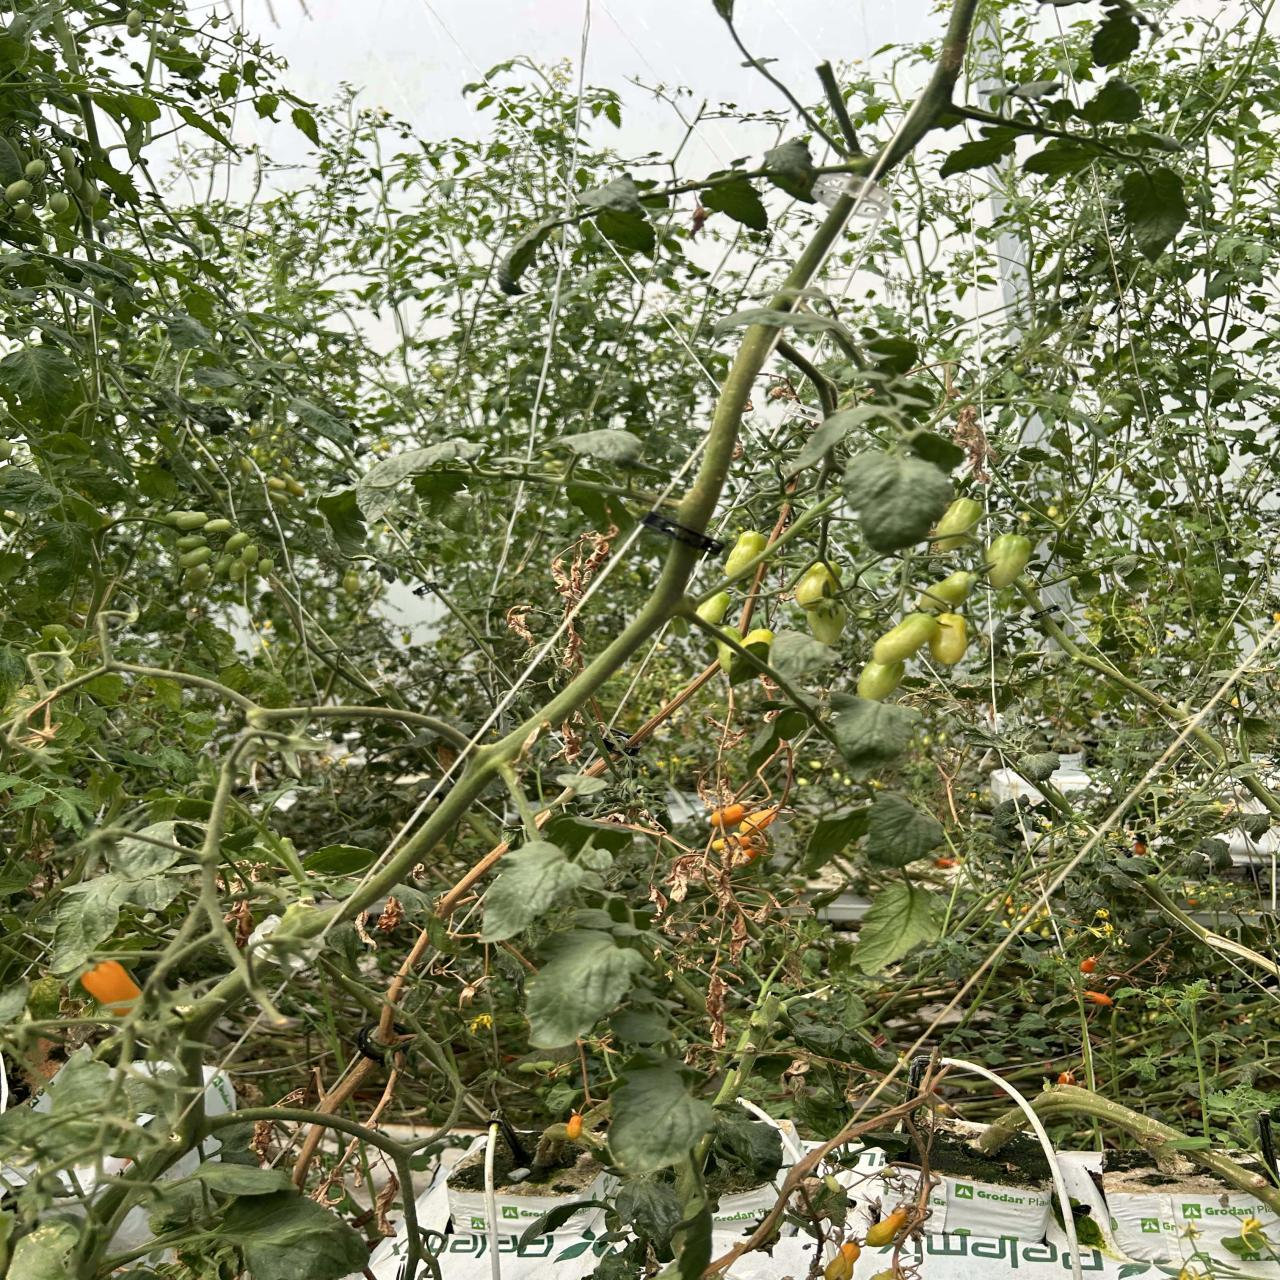Rugose leaf: (608, 1063, 714, 1176), (843, 451, 952, 551), (356, 437, 481, 523), (615, 1175, 681, 1252), (715, 1110, 783, 1176)
Rugose stem: (1029, 1084, 1192, 1149), (967, 1107, 1033, 1155)
Rugose tomato: (872, 612, 939, 663), (81, 960, 142, 1015), (983, 533, 1033, 591), (931, 498, 982, 551), (864, 1204, 915, 1248), (928, 612, 969, 666), (724, 530, 768, 577), (857, 660, 905, 701), (795, 563, 833, 607), (823, 1240, 862, 1280), (695, 591, 731, 625), (740, 809, 777, 836), (710, 804, 747, 829), (45, 192, 75, 218), (179, 545, 212, 568), (5, 178, 33, 203), (224, 531, 250, 556), (186, 565, 212, 590), (62, 164, 83, 192), (176, 533, 206, 552), (176, 512, 207, 530), (203, 518, 232, 535), (239, 544, 259, 566), (566, 1114, 583, 1139), (212, 557, 230, 580), (229, 559, 247, 580), (25, 159, 46, 178), (60, 147, 75, 168), (164, 512, 184, 527), (259, 558, 274, 576)
